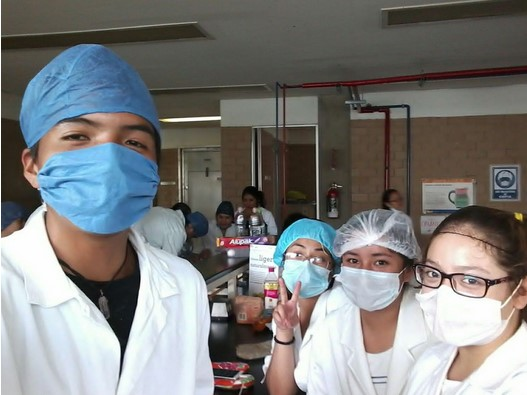face_no_mask: (240, 185, 263, 211), (214, 202, 235, 229)
face_with_mask: (18, 43, 163, 239), (420, 212, 526, 347), (340, 210, 415, 311), (277, 221, 332, 302)
